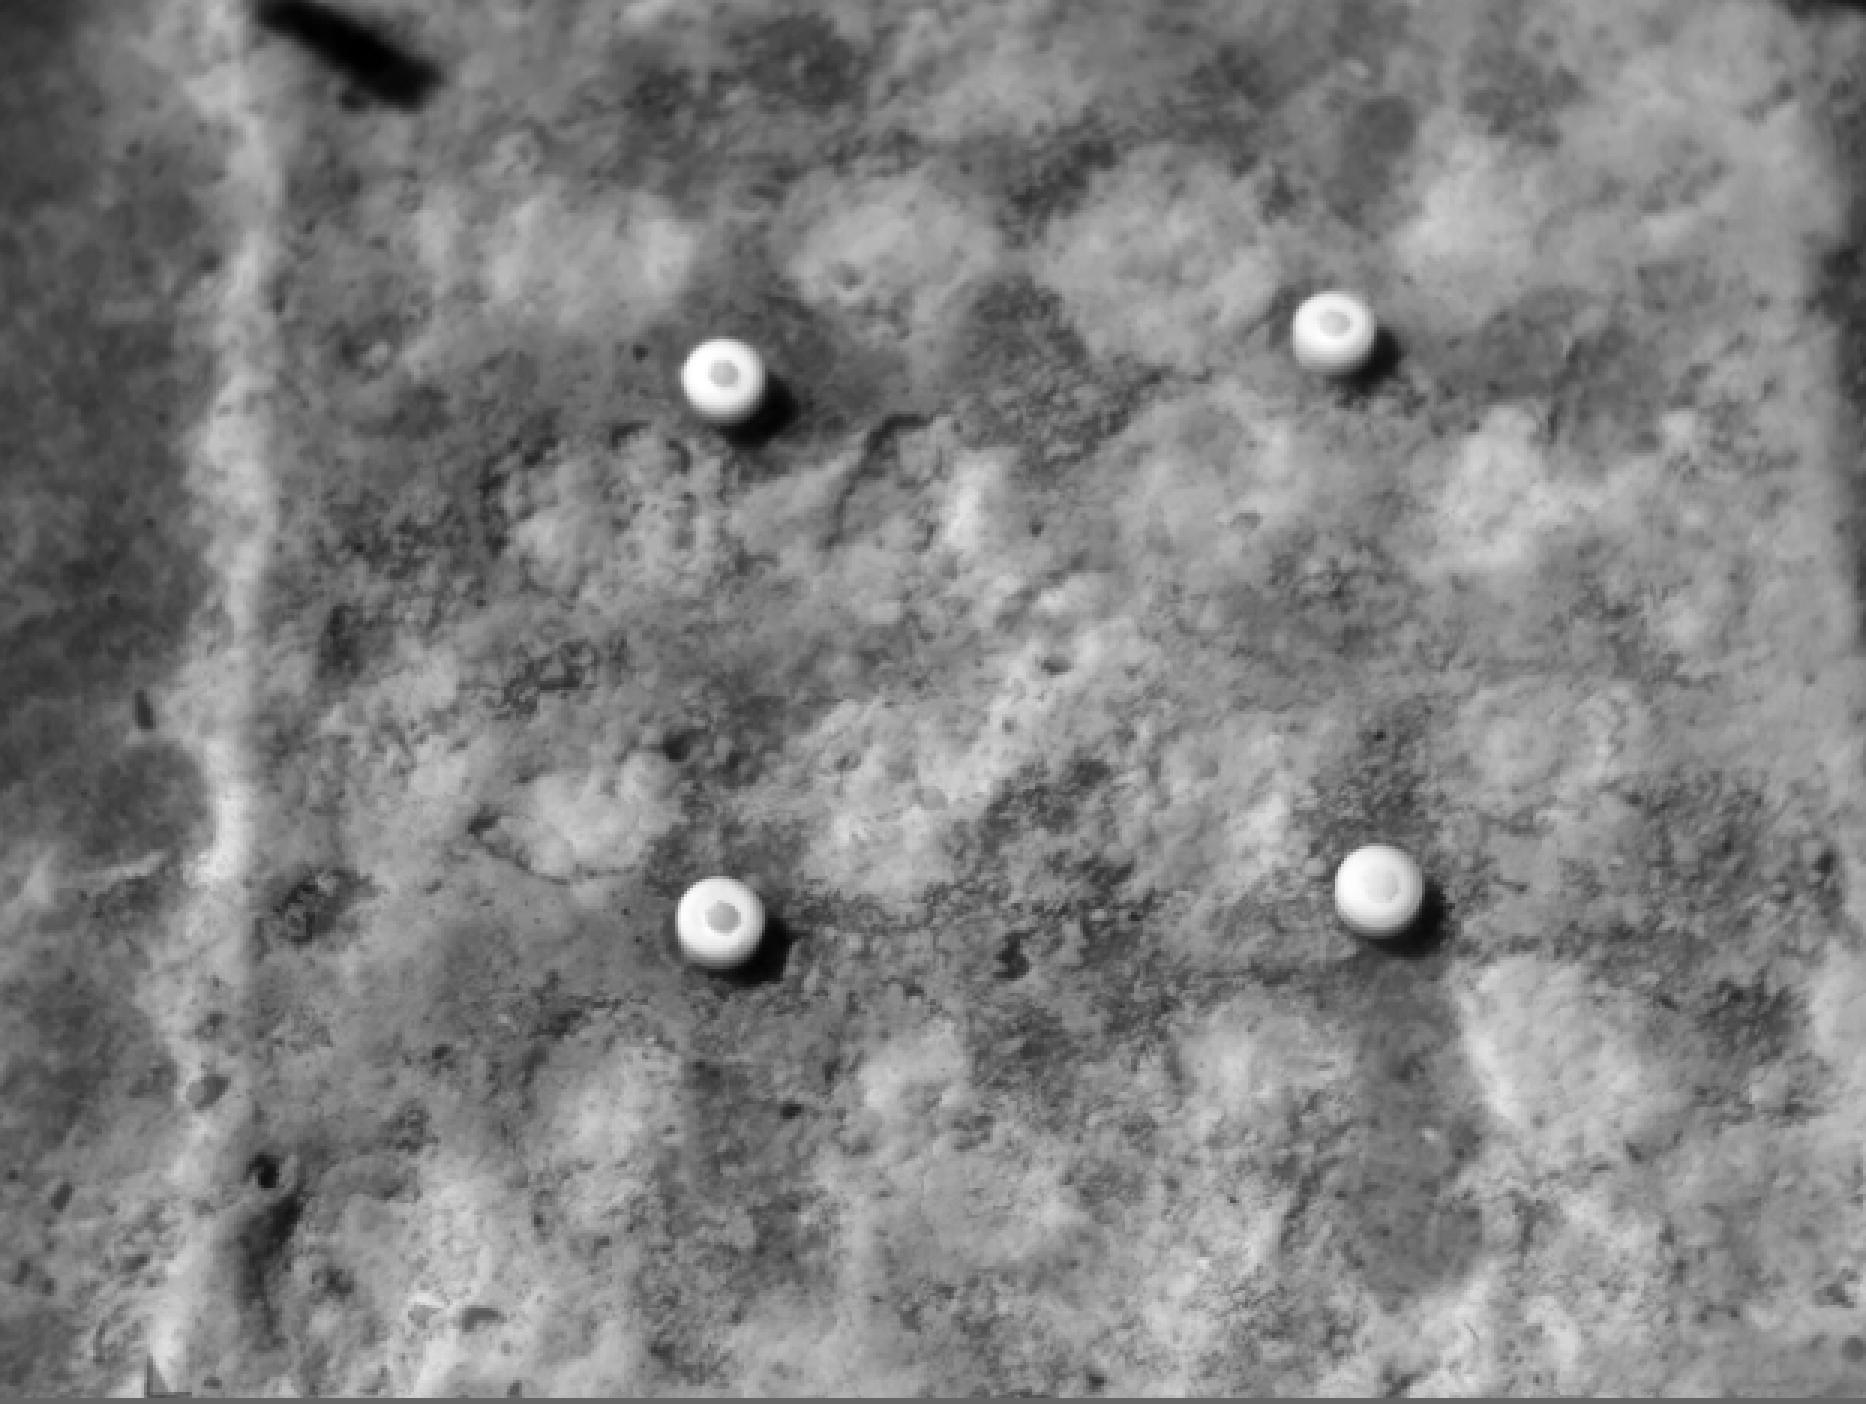mines-gjV8: (1332, 838, 1432, 941), (679, 875, 769, 965), (679, 338, 769, 419), (1298, 292, 1373, 383)
